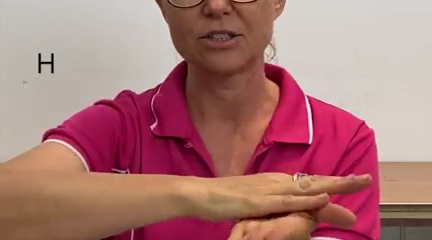H: (188, 156, 379, 240)
